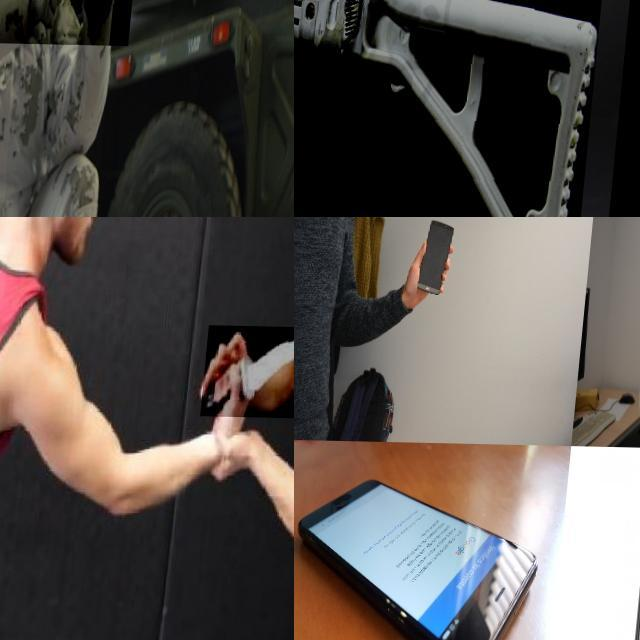-: (207, 323, 294, 416)
gun-knife-thesis - v11 Yolov5 augmented: (294, 0, 619, 217), (0, 0, 151, 99)
